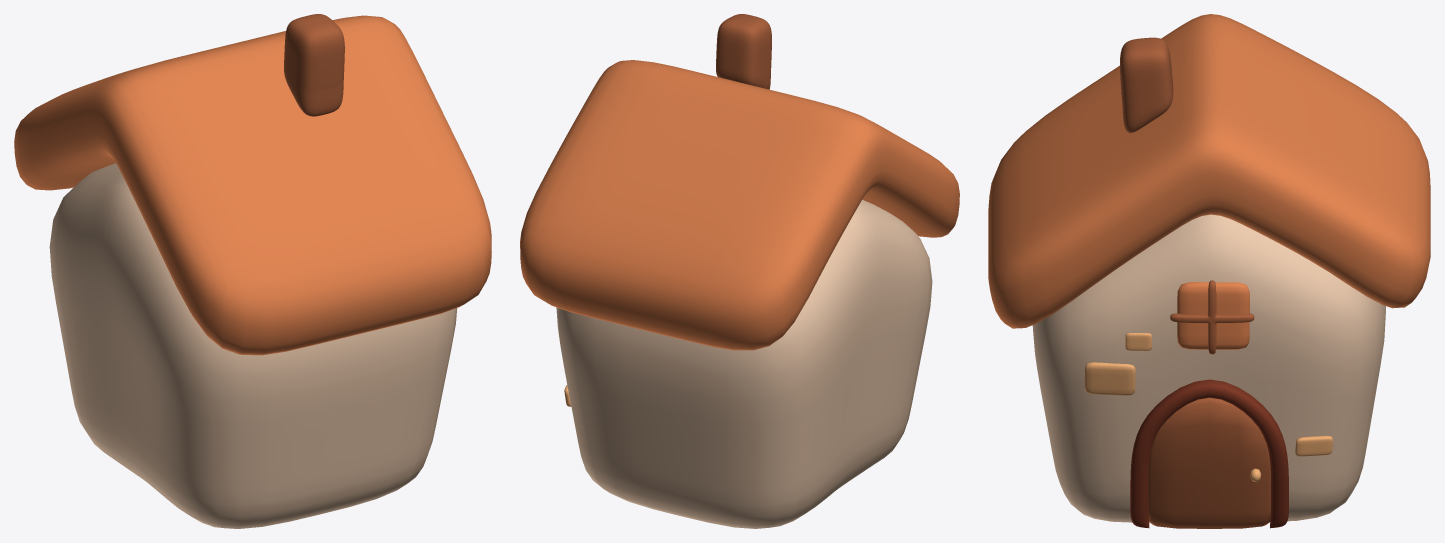
File: house_test.fbx
The picture shows the model from 3 angles, left to right: view 1: azimuth 30°, elevation 25°; view 2: azimuth 150°, elevation 25°; view 3: azimuth 270°, elevation 25°; orthographic projection. The views are drawn at different scales.
Visible parts, largest first — view 1: maison hihi; view 2: maison hihi; view 3: maison hihi.
Boxes of the visible parts, <box> form: maison hihi: <box>14,14,491,528</box>; maison hihi: <box>520,14,959,528</box>; maison hihi: <box>988,14,1430,528</box>.
Bounding box in the file's own units: 700 × 1035 × 907.
